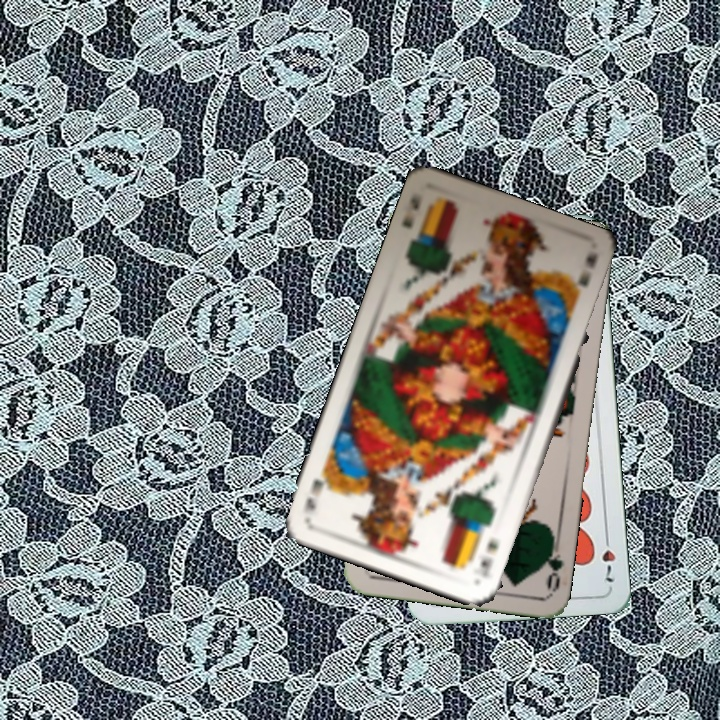EK: (476, 534, 502, 578), (398, 189, 424, 232)
GO: (538, 533, 566, 593)
H7: (598, 528, 618, 585)
